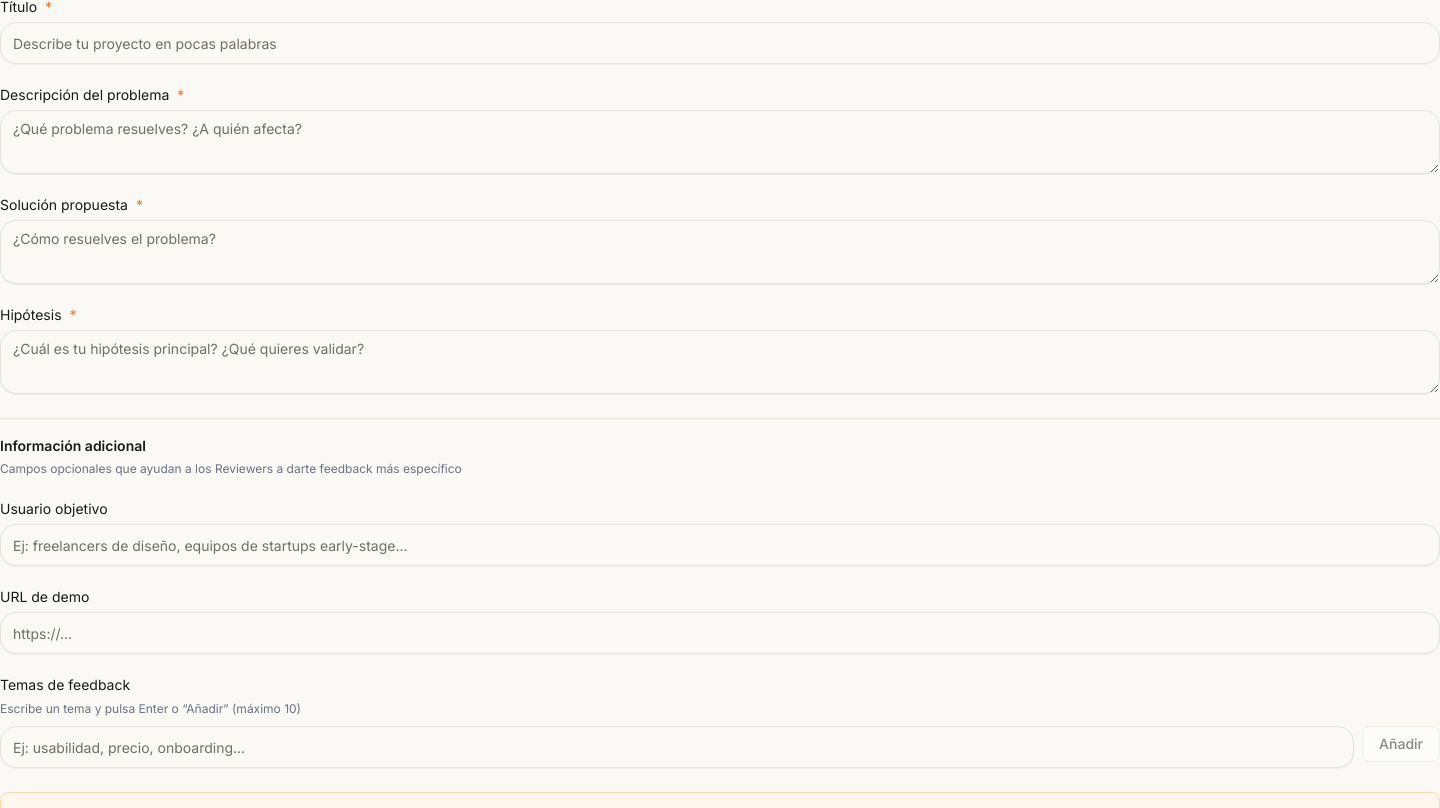
Test case: ProjectForm — AC-6: feedbackTopics — estado local › añade un nuevo topic al escribir en el input y pulsar "Añadir"
The width and height of the screenshot is (1440, 808).
Type "Pricing" into the field labelled "Temas de feedback" at (677, 747), box top-left (0, 726), bottom-right (1354, 768)
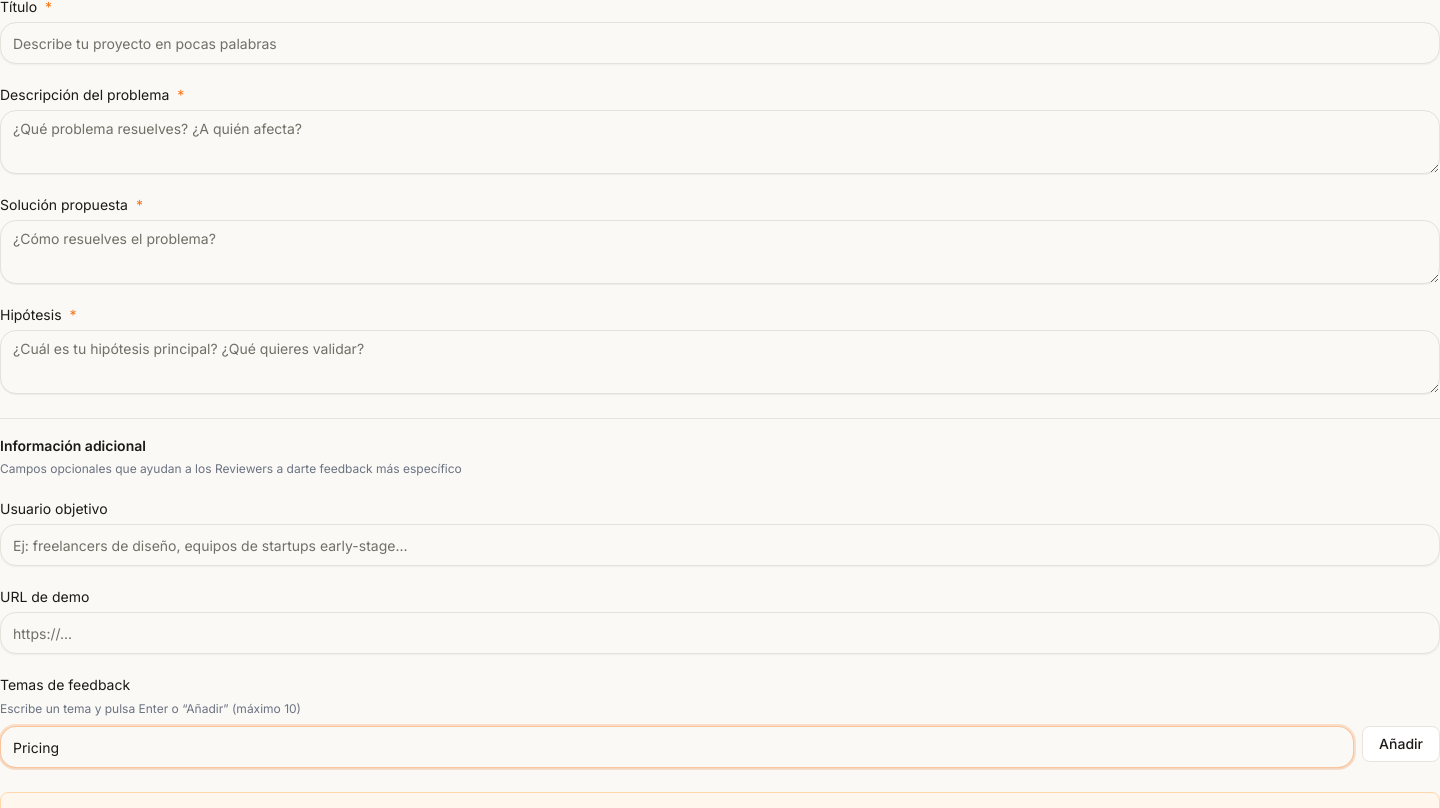
Click the button "Añadir" at (1401, 744), box top-left (1362, 726), bottom-right (1439, 762)
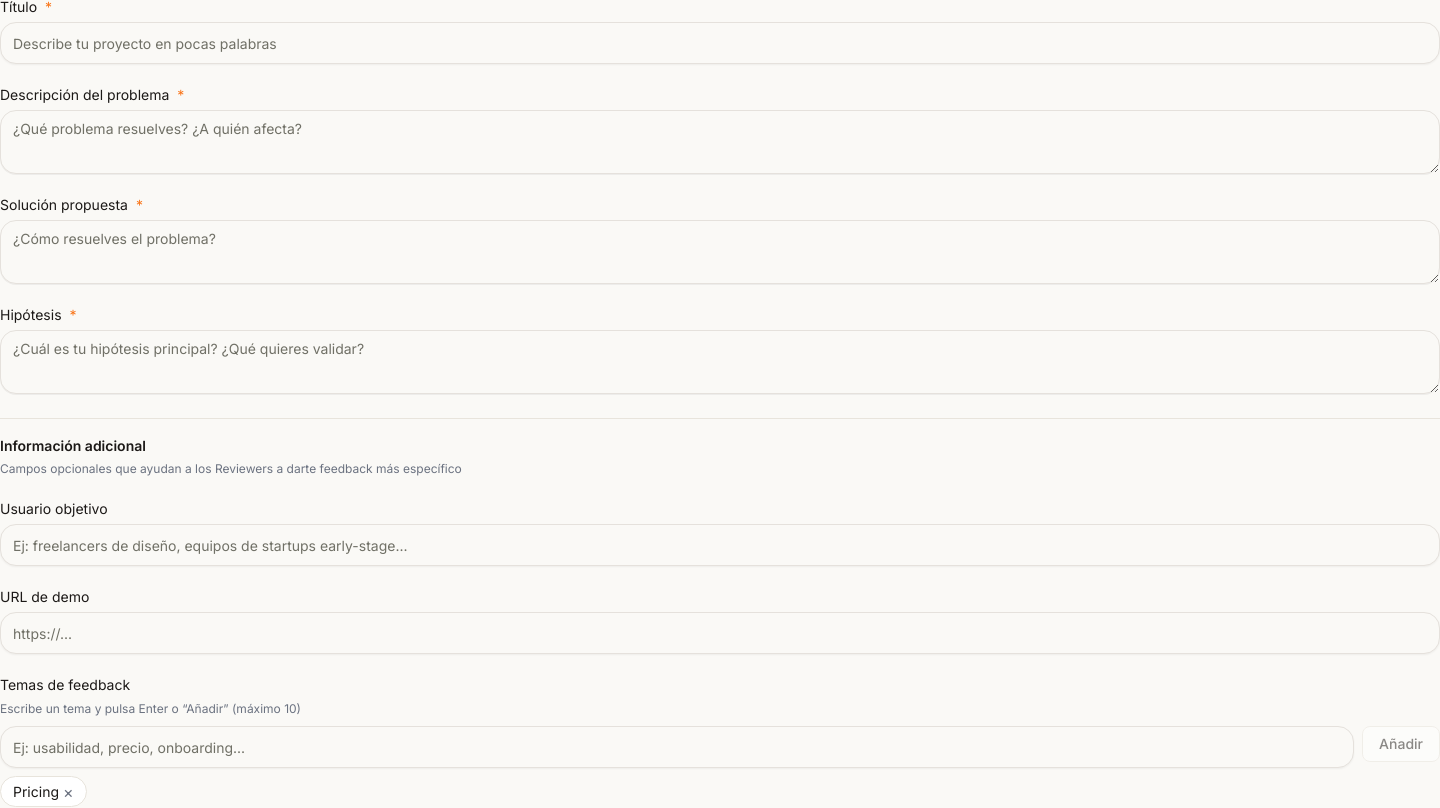
Now the list item "Pricing" is shown, box top-left (13, 783), bottom-right (59, 800)
